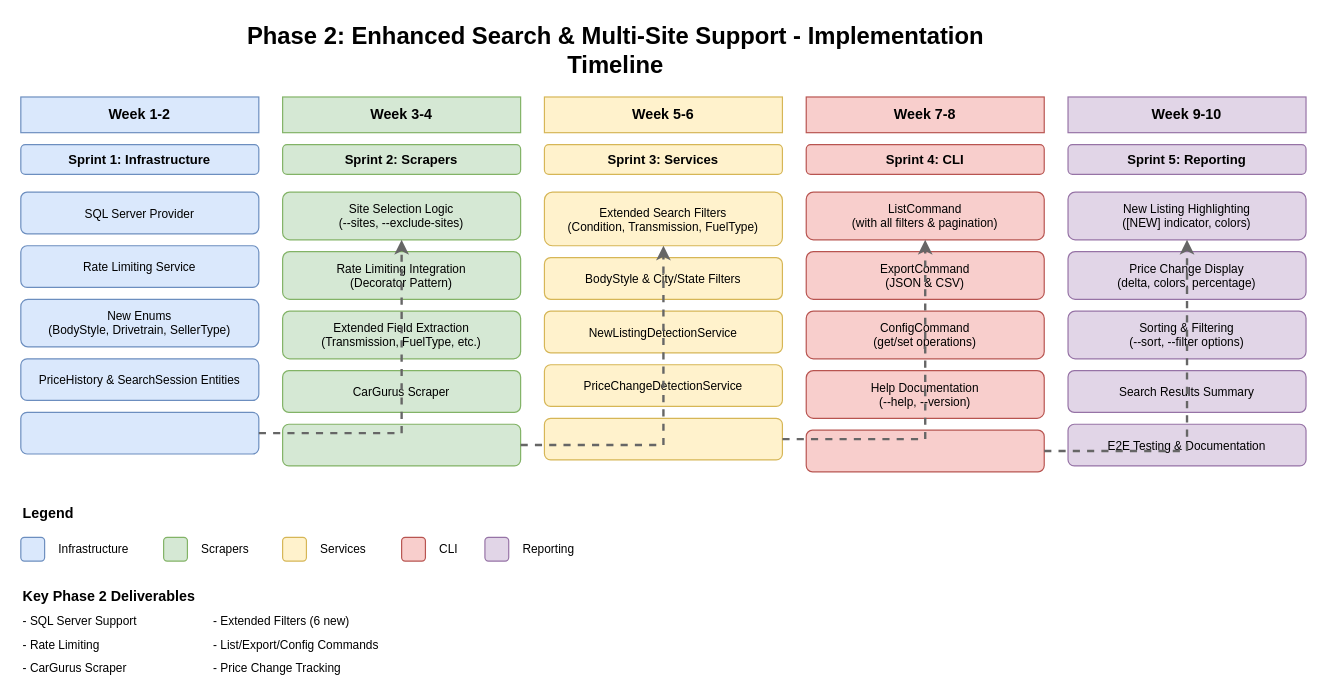
Some shapes in this 1327 by 700 pixel diagram are drawn without their labels. The box of each missing label's shape, as (x1, y1, x2, y2) in pixels:
Error Handling & Headed Mode: (281, 423, 521, 466)
ListingDeactivationService: (543, 417, 782, 460)
Phase 2 Migration: (20, 411, 259, 454)
Progress Bars & Color Output: (805, 429, 1044, 472)
